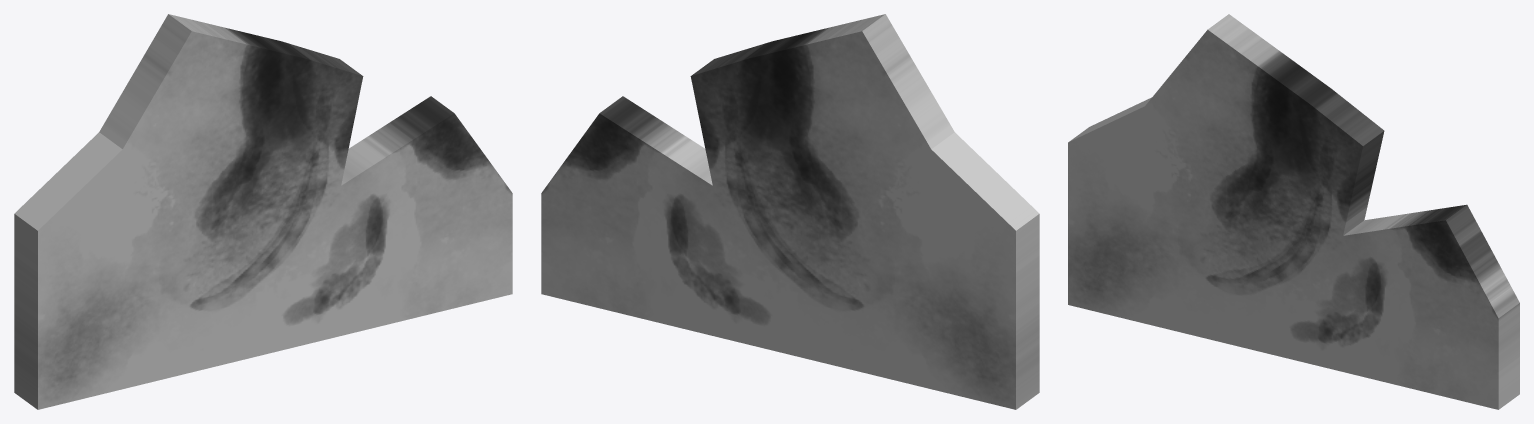
File: Rorschachtest 3.fbx
3 views of the same model, side by side, from view 1: azimuth 30°, elevation 25°; view 2: azimuth 150°, elevation 25°; view 3: azimuth 330°, elevation 25° (orthographic). The views are drawn at different scales.
Visible parts, largest first — view 1: Rohrschachtest 3; view 2: Rohrschachtest 3; view 3: Rohrschachtest 3.
Boxes of the visible parts, x1,y1,x2,y2 form: Rohrschachtest 3: [14, 14, 512, 409]; Rohrschachtest 3: [541, 14, 1039, 409]; Rohrschachtest 3: [1068, 14, 1519, 409].
Size of the model in its own units: 24.8 by 17.03 by 2.13.
